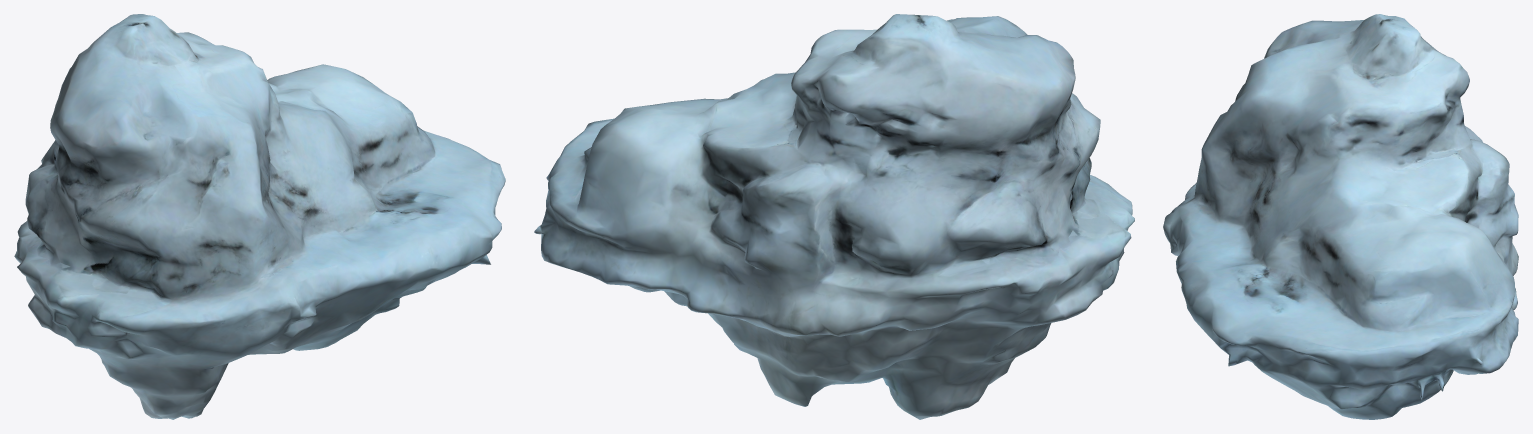
Rendered from iceberg.glb.
The picture shows the model from 3 angles, left to right: view 1: azimuth 30°, elevation 25°; view 2: azimuth 150°, elevation 25°; view 3: azimuth 270°, elevation 25°; orthographic projection. The views are drawn at different scales.
Bounding box in the file's own units: 2 × 1.56 × 1.43.
1 material, 1 textured.
